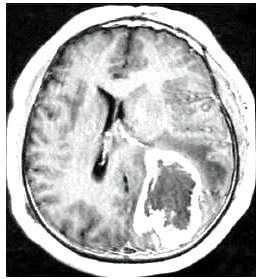Tumor: (128, 150, 210, 248)
